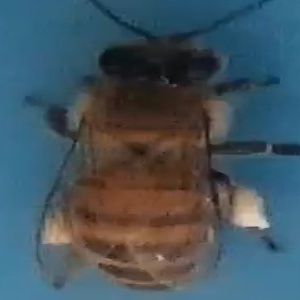bee: (32, 1, 300, 296)
